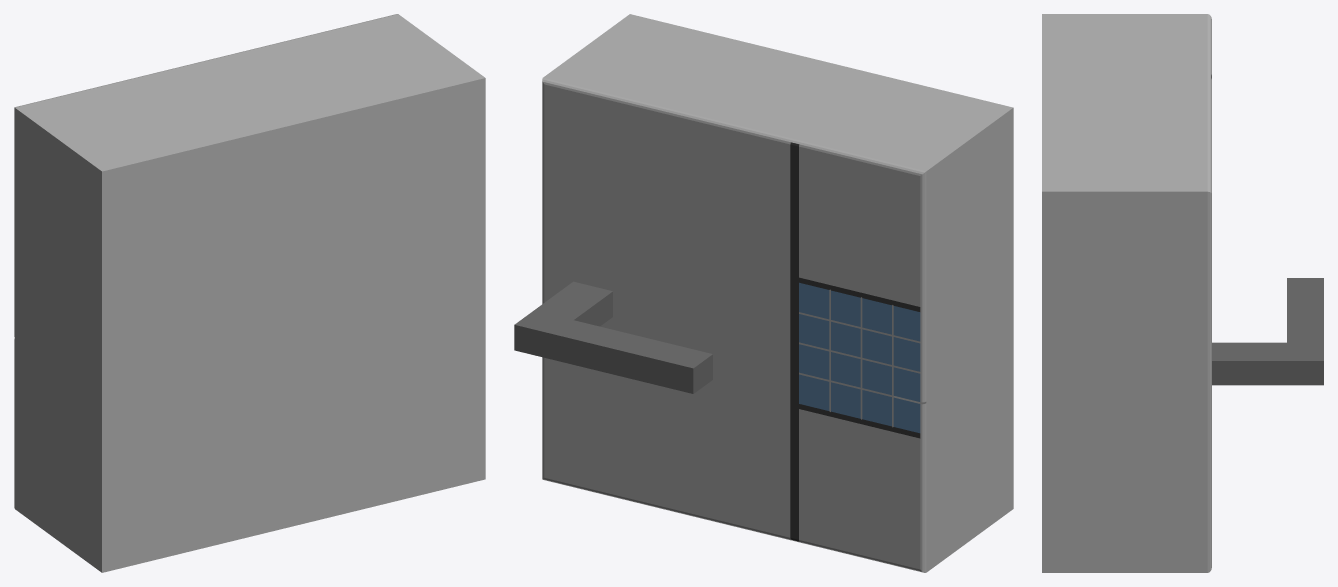
The model's file is Kvamka.fbx.
3 views of the same model, side by side, from view 1: azimuth 30°, elevation 25°; view 2: azimuth 150°, elevation 25°; view 3: azimuth 270°, elevation 25° (orthographic). The views are drawn at different scales.
Parts seen in each view (by area): view 1: Cube.013; view 2: Cube.013, Cube.014; view 3: Cube.013, Cube.014.
Part boxes in pixels (bbox=[...]): Cube.013: bbox=[14, 14, 485, 572]; Cube.013: bbox=[542, 14, 1013, 572]; Cube.014: bbox=[514, 281, 712, 393]; Cube.013: bbox=[1042, 14, 1211, 572]; Cube.014: bbox=[1212, 278, 1323, 385].
Bounding box in the file's own units: 121 × 121 × 81.16.
